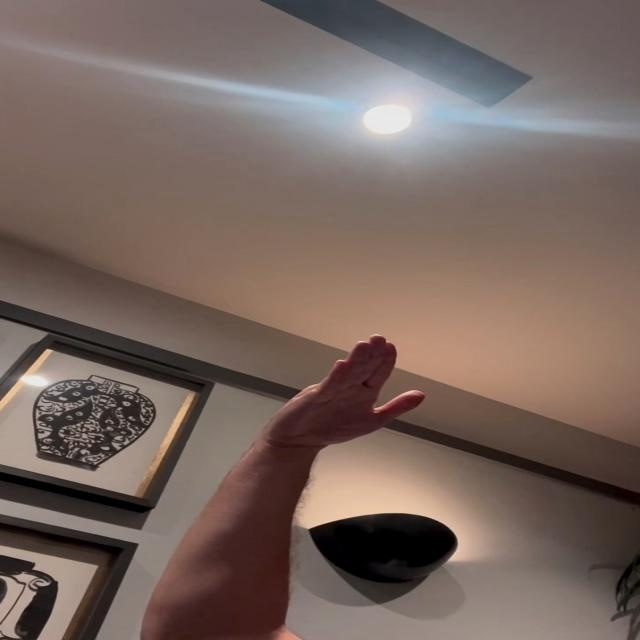Paper: (260, 332, 430, 449)
